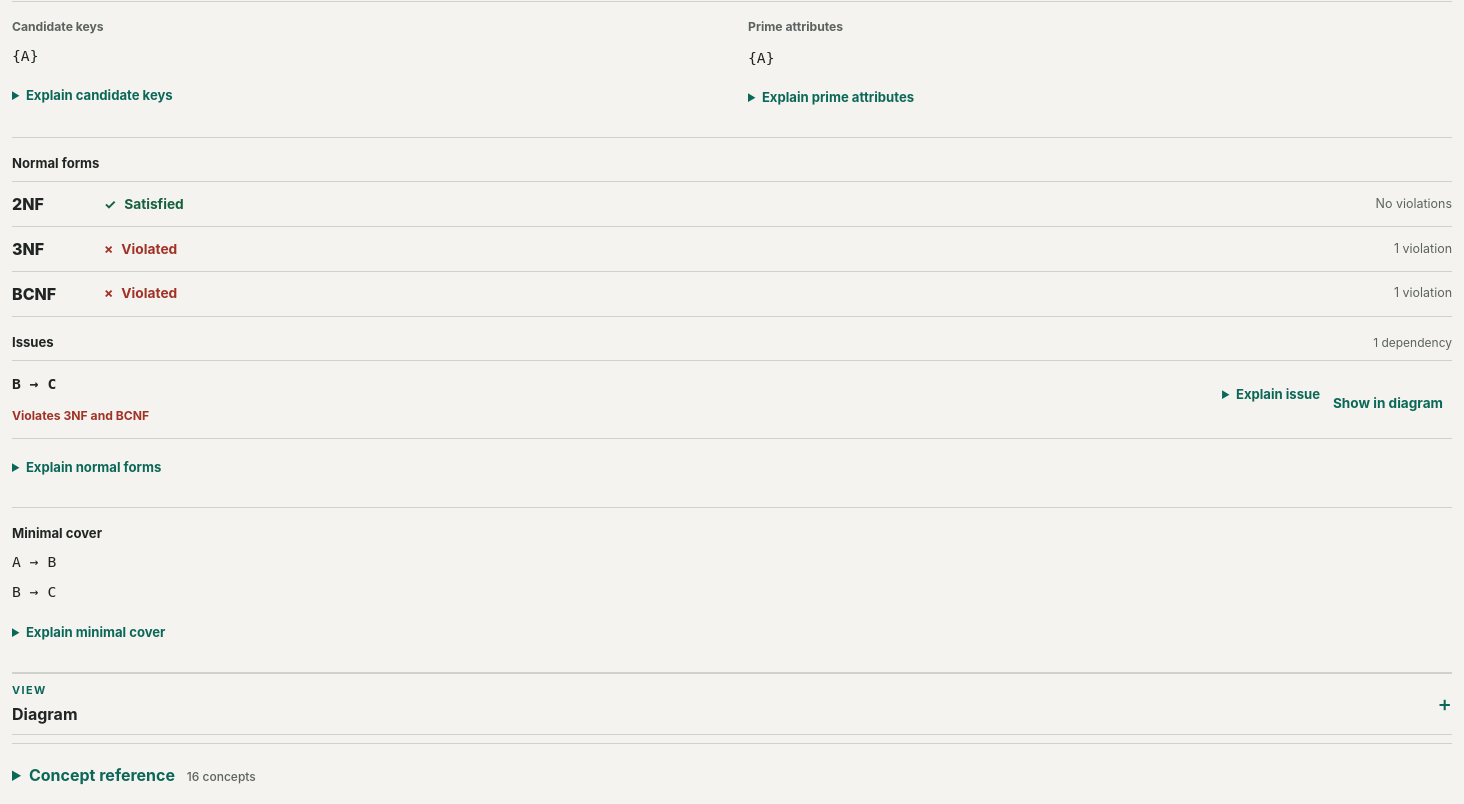
Test case: contextual concept help › opens the semantic glossary with all terms in a single mobile-safe DOM
(page scrolled)
Click the heading "Concept reference 16 concepts".
click(142, 775)  # box [29,765,256,785]
(page scrolled)
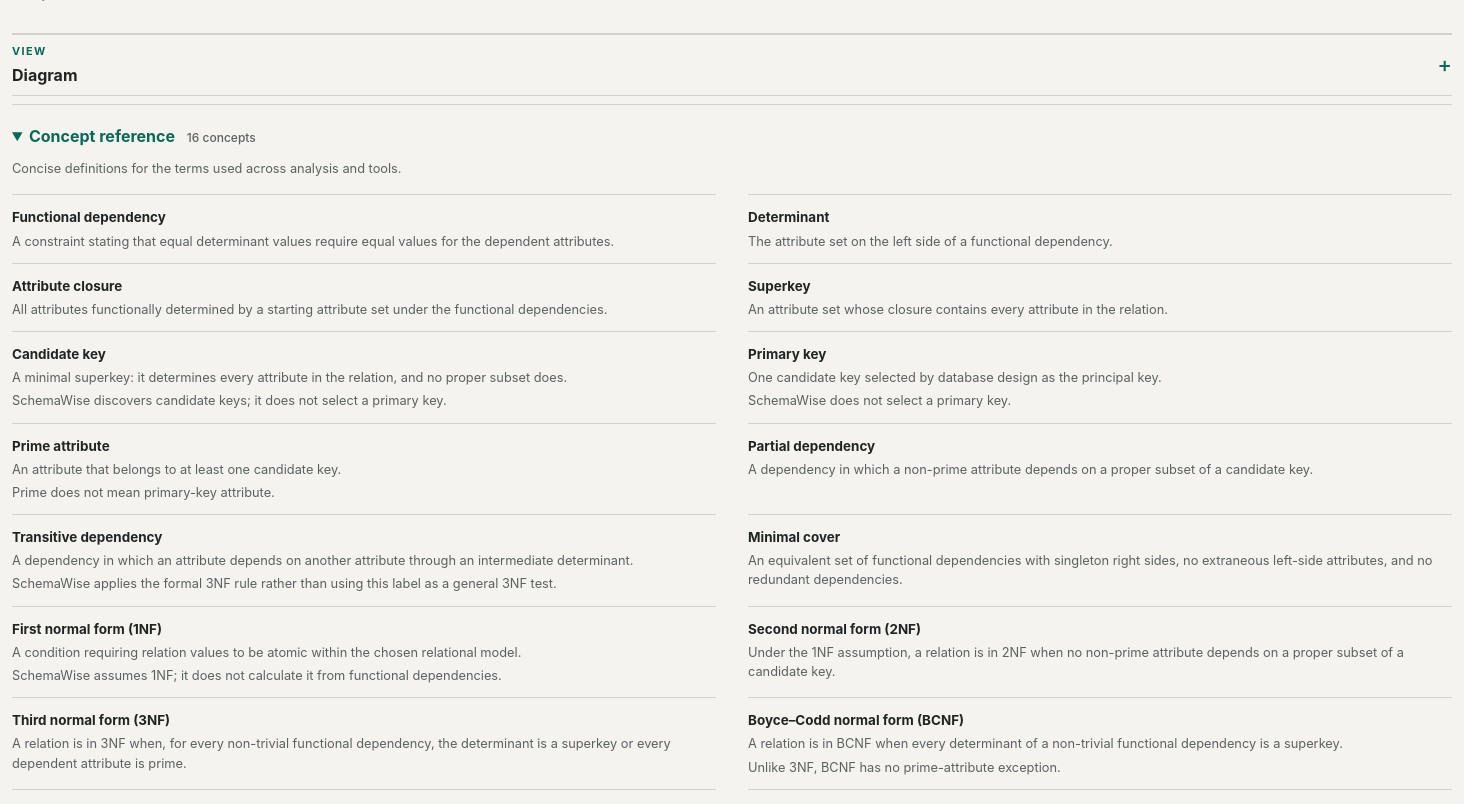
Now the text "Functional dependency" is shown, box [12,209,166,225]
Now the text "Determinant" is shown, box [748,209,829,225]
Now the text "Attribute closure" is shown, box [12,278,122,294]
